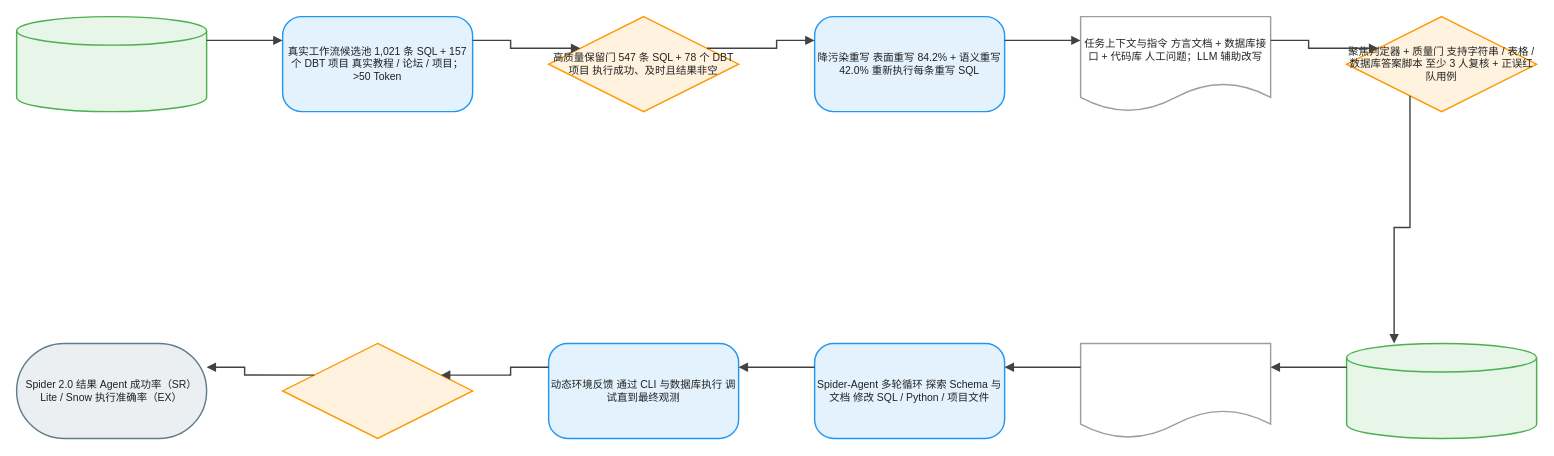
Some shapes in this 1554 by 456 pixel diagram are drawn without their labels. Each missing label, with the centre of its shape:
"Agent 任务输入 问题 + 数据库接口 + 代码库 项目配置、文档与上下文" belongs at pixel 1175 390.
"Spider 2.0 套件 632 个 Agent 工作流 547 题 Lite 与 Snow SQL 变体" belongs at pixel 1441 390.
"企业数据库来源 BigQuery / Snowflake / SQLite / DuckDB PostgreSQL / ClickHouse；共 213 个库" belongs at pixel 111 63.
"每题聚焦执行评测 检查字符串 / 表格 / 数据库核心元素 二值 0/1；忽略无关列" belongs at pixel 377 390.
